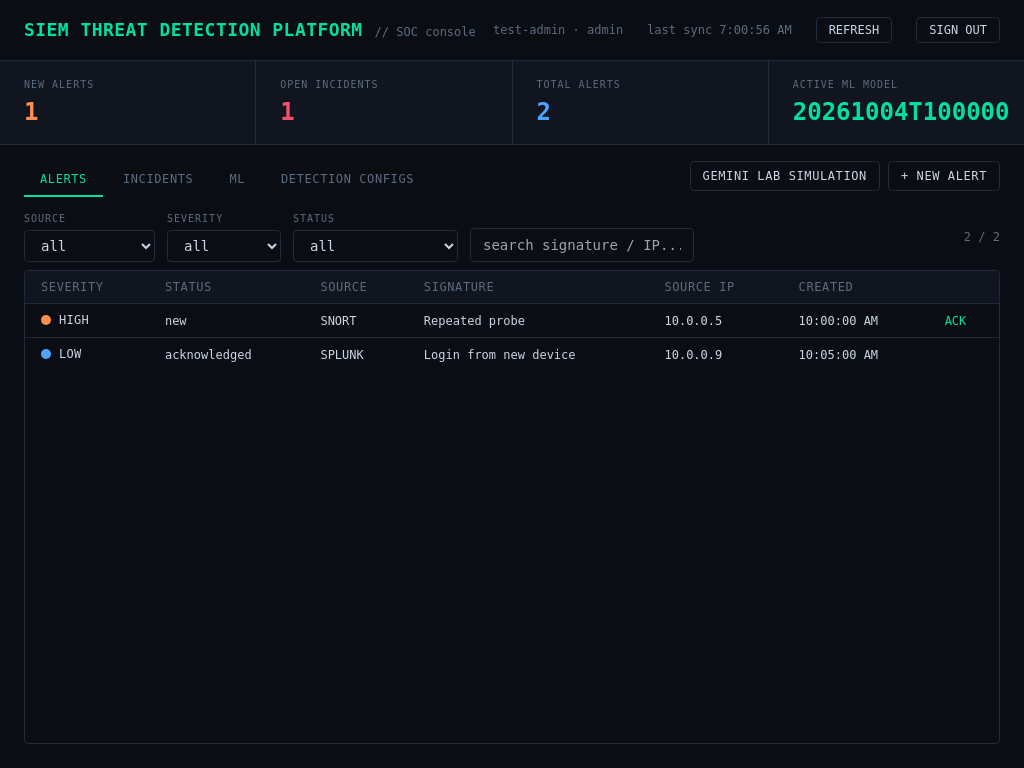
Test case: App › shows optional Gemini incident analysis and separates it from SIEM evidence
Check: the text "Repeated probe" is shown, box [408, 304, 648, 338]
Click the button "incidents" at (158, 180), box [107, 163, 209, 197]
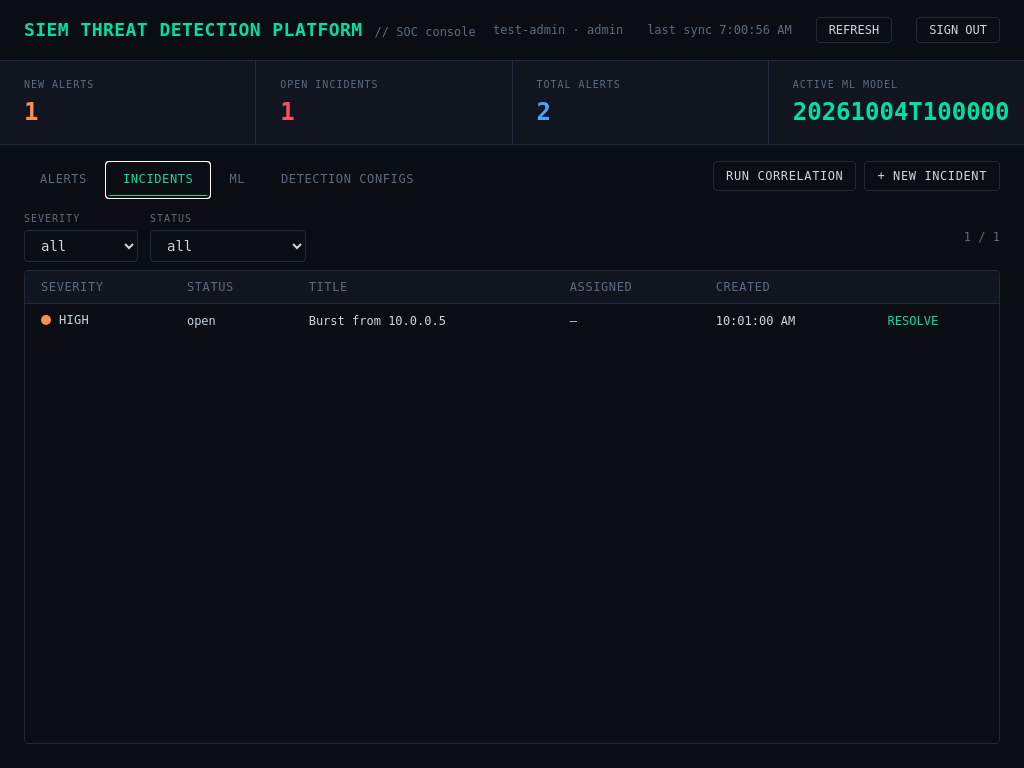
Click the text "Burst from 10.0.0.5" at (423, 320), box [293, 304, 554, 337]
(page scrolled)
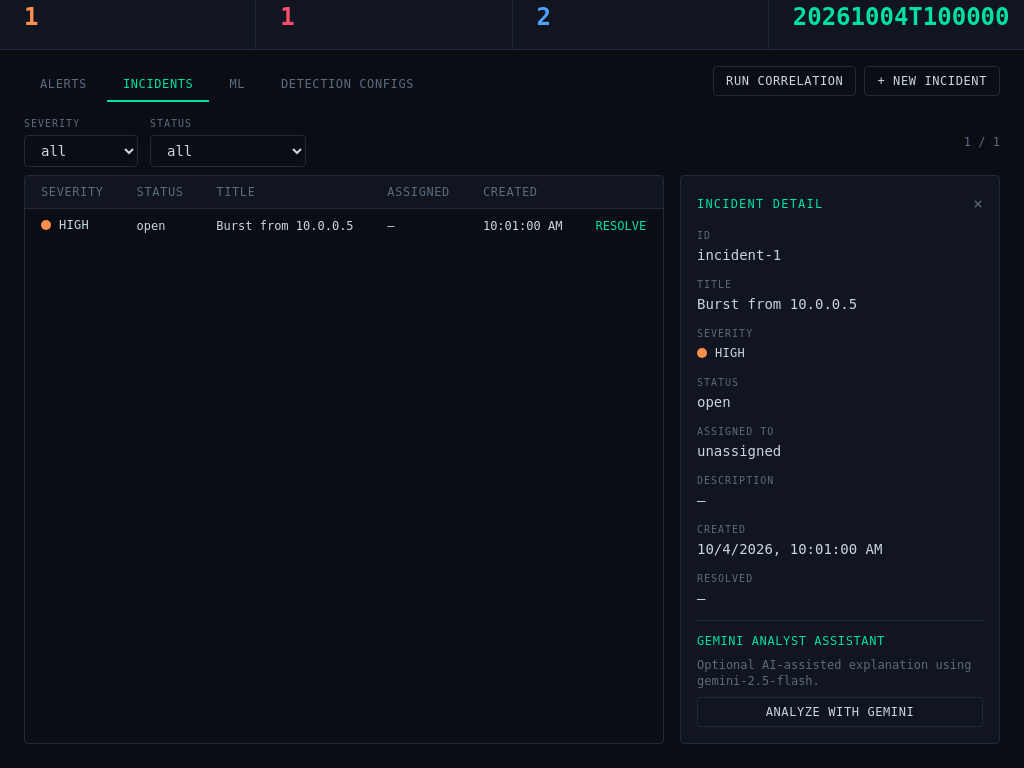
Click the button "Analyze with Gemini" at (840, 712), box [697, 697, 983, 727]
(page scrolled)
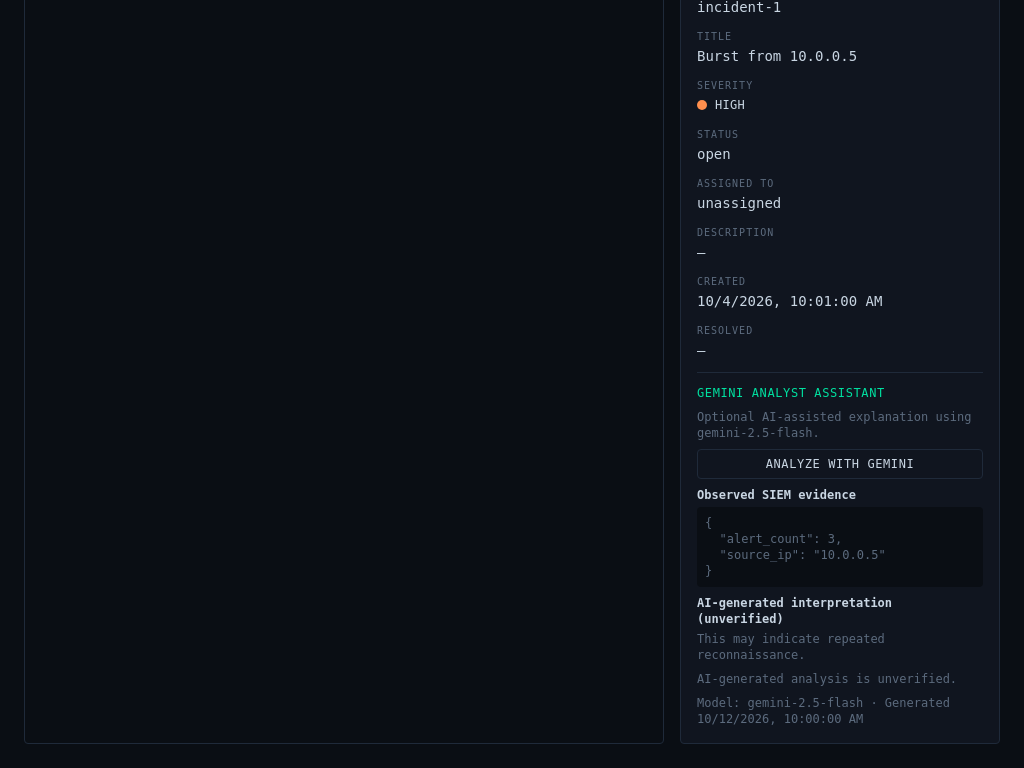
Check: the heading "Observed SIEM evidence" is shown, box [697, 488, 856, 502]
Check: the heading "AI-generated interpretation (unverified)" is shown, box [697, 596, 892, 626]
Check: the text "This may indicate repeated reconnaissance." is shown, box [697, 632, 892, 662]
